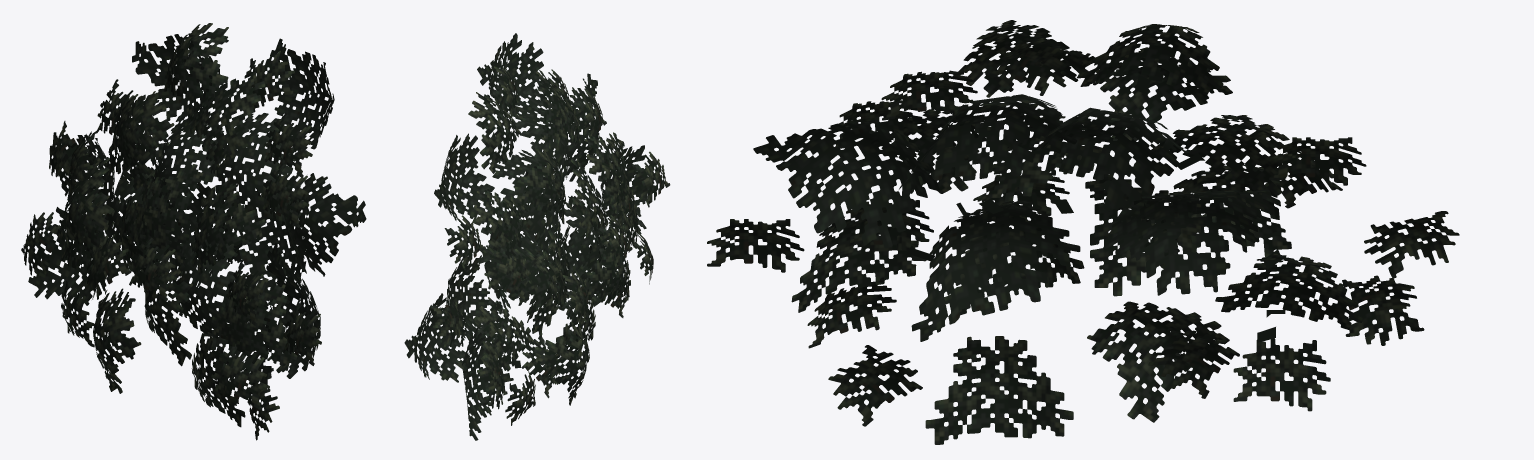
Rendered from EnvFldMD_Tree_G_Mangrove_Leaf_A.FBX.
The picture shows the model from 3 angles, left to right: view 1: azimuth 30°, elevation 25°; view 2: azimuth 150°, elevation 25°; view 3: azimuth 270°, elevation 25°; orthographic projection. The views are drawn at different scales.
Visible parts, largest first — view 1: EnvFldMD_Tree_G_Mangrove_Leaf_A; view 2: EnvFldMD_Tree_G_Mangrove_Leaf_A; view 3: EnvFldMD_Tree_G_Mangrove_Leaf_A.
Part boxes in pixels (bbox=[...]): EnvFldMD_Tree_G_Mangrove_Leaf_A: bbox=[21, 23, 366, 440]; EnvFldMD_Tree_G_Mangrove_Leaf_A: bbox=[404, 33, 670, 440]; EnvFldMD_Tree_G_Mangrove_Leaf_A: bbox=[707, 20, 1459, 444].
Size of the model in its own units: 299 by 608 by 882.
Materials: 1 (1 with a texture image).
